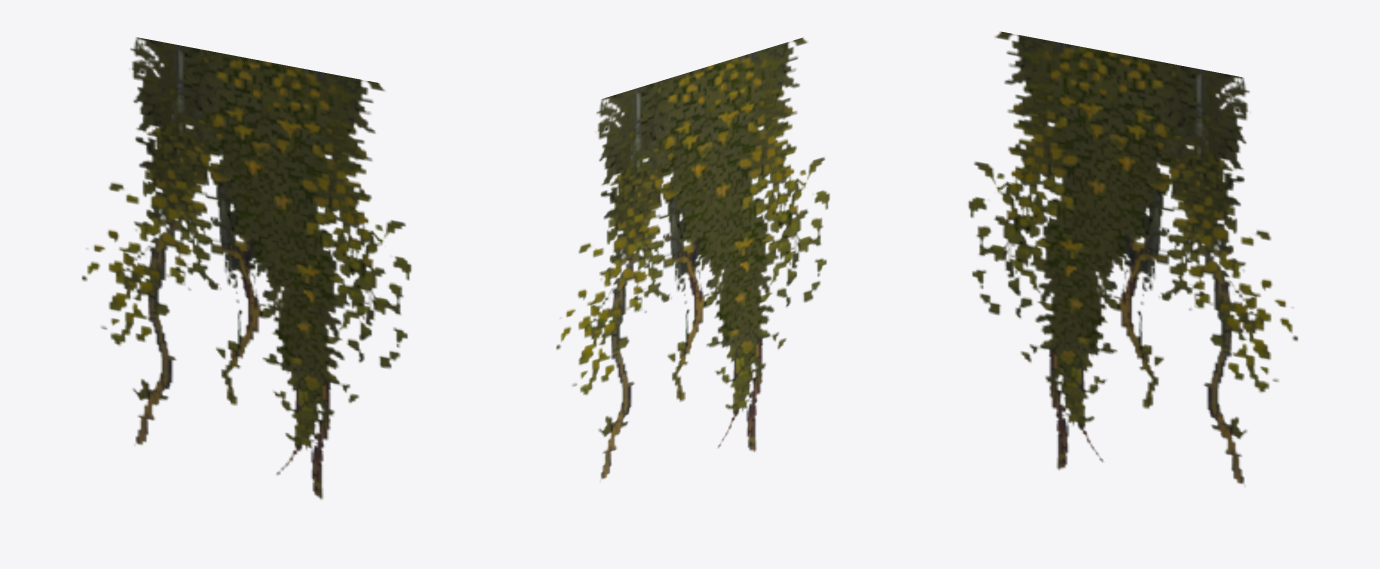
The model's file is GH_1_Ivy_1.gltf.
3 renders of one model, left to right at view 1: azimuth 90°, elevation 25°; view 2: azimuth 150°, elevation 25°; view 3: azimuth 270°, elevation 25°, orthographic. The views are drawn at different scales.
Visible parts, largest first — view 1: GH_1_Ivy_1; view 2: GH_1_Ivy_1; view 3: GH_1_Ivy_1.
Part boxes in pixels (left/top/right/bottom): GH_1_Ivy_1: left=82, top=37, right=411, bottom=499; GH_1_Ivy_1: left=556, top=37, right=829, bottom=479; GH_1_Ivy_1: left=968, top=31, right=1297, bottom=483.
Size of the model in its own units: 1.76 by 4.32 by 3.94.
Materials: 1 (1 with a texture image).
